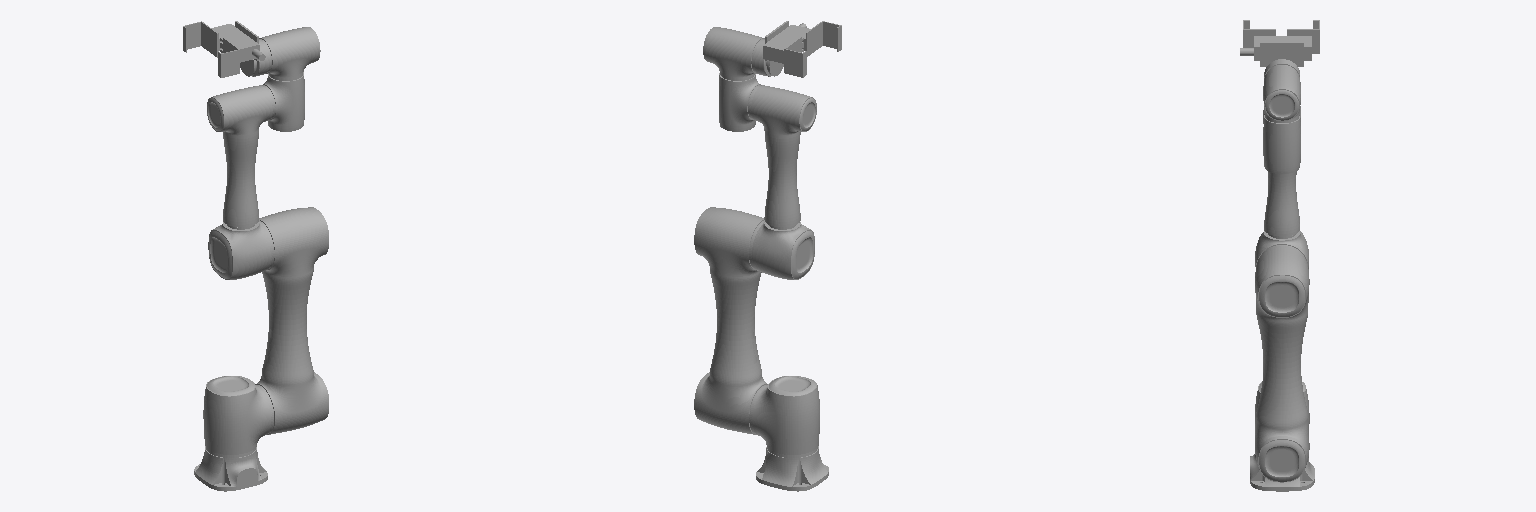
robot.urdf — with_craw:
<?xml version="1.0" ?>
<!-- =================================================================================== -->
<!-- |    This document was autogenerated by xacro from urdf\with_craw.xacro           | -->
<!-- |    EDITING THIS FILE BY HAND IS NOT RECOMMENDED                                 | -->
<!-- =================================================================================== -->
<robot xmlns:xacro="http://www.ros.org/wiki/xacro" name="with_craw">
  <material name="silver">
    <color rgba="0.700 0.700 0.700 1.000"/>
  </material>
  <transmission name="Revolute 2_tran">
    <type>transmission_interface/SimpleTransmission</type>
    <joint name="Revolute 2">
      <hardwareInterface>hardware_interface/EffortJointInterface</hardwareInterface>
    </joint>
    <actuator name="Revolute 2_actr">
      <hardwareInterface>hardware_interface/EffortJointInterface</hardwareInterface>
      <mechanicalReduction>1</mechanicalReduction>
    </actuator>
  </transmission>
  <transmission name="Revolute 3_tran">
    <type>transmission_interface/SimpleTransmission</type>
    <joint name="Revolute 3">
      <hardwareInterface>hardware_interface/EffortJointInterface</hardwareInterface>
    </joint>
    <actuator name="Revolute 3_actr">
      <hardwareInterface>hardware_interface/EffortJointInterface</hardwareInterface>
      <mechanicalReduction>1</mechanicalReduction>
    </actuator>
  </transmission>
  <transmission name="Revolute 8_tran">
    <type>transmission_interface/SimpleTransmission</type>
    <joint name="Revolute 8">
      <hardwareInterface>hardware_interface/EffortJointInterface</hardwareInterface>
    </joint>
    <actuator name="Revolute 8_actr">
      <hardwareInterface>hardware_interface/EffortJointInterface</hardwareInterface>
      <mechanicalReduction>1</mechanicalReduction>
    </actuator>
  </transmission>
  <transmission name="Revolute 11_tran">
    <type>transmission_interface/SimpleTransmission</type>
    <joint name="Revolute 11">
      <hardwareInterface>hardware_interface/EffortJointInterface</hardwareInterface>
    </joint>
    <actuator name="Revolute 11_actr">
      <hardwareInterface>hardware_interface/EffortJointInterface</hardwareInterface>
      <mechanicalReduction>1</mechanicalReduction>
    </actuator>
  </transmission>
  <transmission name="Revolute 12_tran">
    <type>transmission_interface/SimpleTransmission</type>
    <joint name="Revolute 12">
      <hardwareInterface>hardware_interface/EffortJointInterface</hardwareInterface>
    </joint>
    <actuator name="Revolute 12_actr">
      <hardwareInterface>hardware_interface/EffortJointInterface</hardwareInterface>
      <mechanicalReduction>1</mechanicalReduction>
    </actuator>
  </transmission>
  <transmission name="Revolute 13_tran">
    <type>transmission_interface/SimpleTransmission</type>
    <joint name="Revolute 13">
      <hardwareInterface>hardware_interface/EffortJointInterface</hardwareInterface>
    </joint>
    <actuator name="Revolute 13_actr">
      <hardwareInterface>hardware_interface/EffortJointInterface</hardwareInterface>
      <mechanicalReduction>1</mechanicalReduction>
    </actuator>
  </transmission>
  <transmission name="Slider 19_tran">
    <type>transmission_interface/SimpleTransmission</type>
    <joint name="Slider 19">
      <hardwareInterface>hardware_interface/EffortJointInterface</hardwareInterface>
    </joint>
    <actuator name="Slider 19_actr">
      <hardwareInterface>hardware_interface/EffortJointInterface</hardwareInterface>
      <mechanicalReduction>1</mechanicalReduction>
    </actuator>
  </transmission>
  <transmission name="Slider 20_tran">
    <type>transmission_interface/SimpleTransmission</type>
    <joint name="Slider 20">
      <hardwareInterface>hardware_interface/EffortJointInterface</hardwareInterface>
    </joint>
    <actuator name="Slider 20_actr">
      <hardwareInterface>hardware_interface/EffortJointInterface</hardwareInterface>
      <mechanicalReduction>1</mechanicalReduction>
    </actuator>
  </transmission>
  <gazebo>
    <plugin name="control" filename="libgazebo_ros_control.so"/>
  </gazebo>
  <gazebo reference="base_link">
    <material>Gazebo/Silver</material>
    <mu1>0.2</mu1>
    <mu2>0.2</mu2>
    <selfCollide>true</selfCollide>
    <gravity>true</gravity>
  </gazebo>
  <gazebo reference="joint251_1">
    <material>Gazebo/Silver</material>
    <mu1>0.2</mu1>
    <mu2>0.2</mu2>
    <selfCollide>true</selfCollide>
  </gazebo>
  <gazebo reference="joint251_2">
    <material>Gazebo/Silver</material>
    <mu1>0.2</mu1>
    <mu2>0.2</mu2>
    <selfCollide>true</selfCollide>
  </gazebo>
  <gazebo reference="larm_1">
    <material>Gazebo/Silver</material>
    <mu1>0.2</mu1>
    <mu2>0.2</mu2>
    <selfCollide>true</selfCollide>
  </gazebo>
  <gazebo reference="25joint_1">
    <material>Gazebo/Silver</material>
    <mu1>0.2</mu1>
    <mu2>0.2</mu2>
    <selfCollide>true</selfCollide>
  </gazebo>
  <gazebo reference="trans_1">
    <material>Gazebo/Silver</material>
    <mu1>0.2</mu1>
    <mu2>0.2</mu2>
    <selfCollide>true</selfCollide>
  </gazebo>
  <gazebo reference="uarm_1">
    <material>Gazebo/Silver</material>
    <mu1>0.2</mu1>
    <mu2>0.2</mu2>
    <selfCollide>true</selfCollide>
  </gazebo>
  <gazebo reference="joint14_1">
    <material>Gazebo/Silver</material>
    <mu1>0.2</mu1>
    <mu2>0.2</mu2>
    <selfCollide>true</selfCollide>
  </gazebo>
  <gazebo reference="joint142_1">
    <material>Gazebo/Silver</material>
    <mu1>0.2</mu1>
    <mu2>0.2</mu2>
    <selfCollide>true</selfCollide>
  </gazebo>
  <gazebo reference="joint143_1">
    <material>Gazebo/Silver</material>
    <mu1>0.2</mu1>
    <mu2>0.2</mu2>
    <selfCollide>true</selfCollide>
  </gazebo>
  <gazebo reference="flange_1">
    <material>Gazebo/Silver</material>
    <mu1>0.2</mu1>
    <mu2>0.2</mu2>
    <selfCollide>true</selfCollide>
  </gazebo>
  <gazebo reference="board_1">
    <material>Gazebo/Silver</material>
    <mu1>0.2</mu1>
    <mu2>0.2</mu2>
    <selfCollide>true</selfCollide>
  </gazebo>
  <gazebo reference="craw_1">
    <material>Gazebo/Silver</material>
    <mu1>0.2</mu1>
    <mu2>0.2</mu2>
    <selfCollide>true</selfCollide>
  </gazebo>
  <gazebo reference="cralwer_deap_1">
    <material>Gazebo/Silver</material>
    <mu1>0.2</mu1>
    <mu2>0.2</mu2>
    <selfCollide>true</selfCollide>
  </gazebo>
  <gazebo reference="crawler_deap12_1">
    <material>Gazebo/Silver</material>
    <mu1>0.2</mu1>
    <mu2>0.2</mu2>
    <selfCollide>true</selfCollide>
  </gazebo>
  <link name="base_link">
    <inertial>
      <origin xyz="9.954103263505598e-09 -0.0015502821747043515 0.1223159317118989" rpy="0 0 0"/>
      <mass value="7.80323249079454"/>
      <inertia ixx="0.012989" iyy="0.01227" izz="0.018229" ixy="0.0" iyz="1.6e-05" ixz="-0.0"/>
    </inertial>
    <visual>
      <origin xyz="0 0 0" rpy="0 0 0"/>
      <geometry>
        <mesh filename="package://robot_description/meshes/base_link.stl" scale="0.001 0.001 0.001"/>
      </geometry>
      <material name="silver"/>
    </visual>
    <collision>
      <origin xyz="0 0 0" rpy="0 0 0"/>
      <geometry>
        <mesh filename="package://robot_description/meshes/base_link.stl" scale="0.001 0.001 0.001"/>
      </geometry>
    </collision>
  </link>
  <link name="joint251_1">
    <inertial>
      <origin xyz="0.007407255316287612 9.443880300205346e-09 0.07775349829951264" rpy="0 0 0"/>
      <mass value="15.540708623156787"/>
      <inertia ixx="0.041918" iyy="0.045424" izz="0.033427" ixy="-0.0" iyz="0.0" ixz="0.000116"/>
    </inertial>
    <visual>
      <origin xyz="0.0 -0.0 -0.16" rpy="0 0 0"/>
      <geometry>
        <mesh filename="package://robot_description/meshes/joint251_1.stl" scale="0.001 0.001 0.001"/>
      </geometry>
      <material name="silver"/>
    </visual>
    <collision>
      <origin xyz="0.0 -0.0 -0.16" rpy="0 0 0"/>
      <geometry>
        <mesh filename="package://robot_description/meshes/joint251_1.stl" scale="0.001 0.001 0.001"/>
      </geometry>
    </collision>
  </link>
  <link name="joint251_2">
    <inertial>
      <origin xyz="0.07775349829951257 -9.443880299997178e-09 0.0074073567206075774" rpy="0 0 0"/>
      <mass value="15.540708623156787"/>
      <inertia ixx="0.033427" iyy="0.045424" izz="0.041918" ixy="-0.0" iyz="0.0" ixz="0.000116"/>
    </inertial>
    <visual>
      <origin xyz="-0.071 -0.0 -0.236501" rpy="0 0 0"/>
      <geometry>
        <mesh filename="package://robot_description/meshes/joint251_2.stl" scale="0.001 0.001 0.001"/>
      </geometry>
      <material name="silver"/>
    </visual>
    <collision>
      <origin xyz="-0.071 -0.0 -0.236501" rpy="0 0 0"/>
      <geometry>
        <mesh filename="package://robot_description/meshes/joint251_2.stl" scale="0.001 0.001 0.001"/>
      </geometry>
    </collision>
  </link>
  <link name="larm_1">
    <inertial>
      <origin xyz="-0.147501 0.0 -0.307501" rpy="0 0 0"/>
      <mass value="0.0"/>
      <inertia ixx="0.0" iyy="0.0" izz="0.0" ixy="0.0" iyz="0.0" ixz="0.0"/>
    </inertial>
    <visual>
      <origin xyz="-0.147501 0.0 -0.307501" rpy="0 0 0"/>
      <geometry>
        <mesh filename="package://robot_description/meshes/larm_1.stl" scale="0.001 0.001 0.001"/>
      </geometry>
      <material name="silver"/>
    </visual>
    <collision>
      <origin xyz="-0.147501 0.0 -0.307501" rpy="0 0 0"/>
      <geometry>
        <mesh filename="package://robot_description/meshes/larm_1.stl" scale="0.001 0.001 0.001"/>
      </geometry>
    </collision>
  </link>
  <link name="25joint_1">
    <inertial>
      <origin xyz="0.0012524982995125444 9.443880291323559e-09 0.06359284608803206" rpy="0 0 0"/>
      <mass value="15.540708623156787"/>
      <inertia ixx="0.033427" iyy="0.045424" izz="0.041918" ixy="0.0" iyz="0.0" ixz="-0.000116"/>
    </inertial>
    <visual>
      <origin xyz="-0.147501 0.0 -0.574501" rpy="0 0 0"/>
      <geometry>
        <mesh filename="package://robot_description/meshes/25joint_1.stl" scale="0.001 0.001 0.001"/>
      </geometry>
      <material name="silver"/>
    </visual>
    <collision>
      <origin xyz="-0.147501 0.0 -0.574501" rpy="0 0 0"/>
      <geometry>
        <mesh filename="package://robot_description/meshes/25joint_1.stl" scale="0.001 0.001 0.001"/>
      </geometry>
    </collision>
  </link>
  <link name="trans_1">
    <inertial>
      <origin xyz="-0.04834807020879976 -2.133823642225252e-09 0.0023734187016306585" rpy="0 0 0"/>
      <mass value="9.76158423031047"/>
      <inertia ixx="0.019423" iyy="0.01826" izz="0.017278" ixy="0.0" iyz="-0.0" ixz="-8.1e-05"/>
    </inertial>
    <visual>
      <origin xyz="-0.071 0.0 -0.645501" rpy="0 0 0"/>
      <geometry>
        <mesh filename="package://robot_description/meshes/trans_1.stl" scale="0.001 0.001 0.001"/>
      </geometry>
      <material name="silver"/>
    </visual>
    <collision>
      <origin xyz="-0.071 0.0 -0.645501" rpy="0 0 0"/>
      <geometry>
        <mesh filename="package://robot_description/meshes/trans_1.stl" scale="0.001 0.001 0.001"/>
      </geometry>
    </collision>
  </link>
  <link name="uarm_1">
    <inertial>
      <origin xyz="-0.026 0.0 -0.710601" rpy="0 0 0"/>
      <mass value="0.0"/>
      <inertia ixx="0.0" iyy="0.0" izz="0.0" ixy="0.0" iyz="0.0" ixz="0.0"/>
    </inertial>
    <visual>
      <origin xyz="-0.026 -0.0 -0.710601" rpy="0 0 0"/>
      <geometry>
        <mesh filename="package://robot_description/meshes/uarm_1.stl" scale="0.001 0.001 0.001"/>
      </geometry>
      <material name="silver"/>
    </visual>
    <collision>
      <origin xyz="-0.026 -0.0 -0.710601" rpy="0 0 0"/>
      <geometry>
        <mesh filename="package://robot_description/meshes/uarm_1.stl" scale="0.001 0.001 0.001"/>
      </geometry>
    </collision>
  </link>
  <link name="joint14_1">
    <inertial>
      <origin xyz="-0.0013163614832422087 6.989364011106081e-09 0.044489875500995035" rpy="0 0 0"/>
      <mass value="6.462489586316137"/>
      <inertia ixx="0.006667" iyy="0.012155" izz="0.011497" ixy="-0.0" iyz="0.0" ixz="4.7e-05"/>
    </inertial>
    <visual>
      <origin xyz="-0.026 -0.0 -0.947601" rpy="0 0 0"/>
      <geometry>
        <mesh filename="package://robot_description/meshes/joint14_1.stl" scale="0.001 0.001 0.001"/>
      </geometry>
      <material name="silver"/>
    </visual>
    <collision>
      <origin xyz="-0.026 -0.0 -0.947601" rpy="0 0 0"/>
      <geometry>
        <mesh filename="package://robot_description/meshes/joint14_1.stl" scale="0.001 0.001 0.001"/>
      </geometry>
    </collision>
  </link>
  <link name="joint142_1">
    <inertial>
      <origin xyz="0.04448977409667382 -6.989367042213665e-09 -0.0013162600789008438" rpy="0 0 0"/>
      <mass value="6.462489586316137"/>
      <inertia ixx="0.011497" iyy="0.012155" izz="0.006667" ixy="-0.0" iyz="0.0" ixz="4.7e-05"/>
    </inertial>
    <visual>
      <origin xyz="-0.094 0.0 -0.996601" rpy="0 0 0"/>
      <geometry>
        <mesh filename="package://robot_description/meshes/joint142_1.stl" scale="0.001 0.001 0.001"/>
      </geometry>
      <material name="silver"/>
    </visual>
    <collision>
      <origin xyz="-0.094 0.0 -0.996601" rpy="0 0 0"/>
      <geometry>
        <mesh filename="package://robot_description/meshes/joint142_1.stl" scale="0.001 0.001 0.001"/>
      </geometry>
    </collision>
  </link>
  <link name="joint143_1">
    <inertial>
      <origin xyz="0.001316361483200329 -6.989370806564921e-09 0.04448987550101702" rpy="0 0 0"/>
      <mass value="6.4624895863161385"/>
      <inertia ixx="0.006667" iyy="0.012155" izz="0.011497" ixy="-0.0" iyz="-0.0" ixz="-4.7e-05"/>
    </inertial>
    <visual>
      <origin xyz="-0.143 0.0 -1.064601" rpy="0 0 0"/>
      <geometry>
        <mesh filename="package://robot_description/meshes/joint143_1.stl" scale="0.001 0.001 0.001"/>
      </geometry>
      <material name="silver"/>
    </visual>
    <collision>
      <origin xyz="-0.143 0.0 -1.064601" rpy="0 0 0"/>
      <geometry>
        <mesh filename="package://robot_description/meshes/joint143_1.stl" scale="0.001 0.001 0.001"/>
      </geometry>
    </collision>
  </link>
  <link name="flange_1">
    <inertial>
      <origin xyz="-0.012106817573210152 -4.741664094557042e-15 -2.655884810787157e-05" rpy="0 0 0"/>
      <mass value="1.24878893227101"/>
      <inertia ixx="0.001091" iyy="0.000662" izz="0.000662" ixy="0.0" iyz="-0.0" ixz="-1e-06"/>
    </inertial>
    <visual>
      <origin xyz="-0.075 0.0 -1.113601" rpy="0 0 0"/>
      <geometry>
        <mesh filename="package://robot_description/meshes/flange_1.stl" scale="0.001 0.001 0.001"/>
      </geometry>
      <material name="silver"/>
    </visual>
    <collision>
      <origin xyz="-0.075 0.0 -1.113601" rpy="0 0 0"/>
      <geometry>
        <mesh filename="package://robot_description/meshes/flange_1.stl" scale="0.001 0.001 0.001"/>
      </geometry>
    </collision>
  </link>
  <link name="board_1">
    <inertial>
      <origin xyz="-0.002504966782930447 -6.7501559897209515e-15 0.027553796832819" rpy="0 0 0"/>
      <mass value="0.37239652270283546"/>
      <inertia ixx="0.000605" iyy="0.000357" izz="0.00025" ixy="-0.0" iyz="0.0" ixz="0.0"/>
    </inertial>
    <visual>
      <origin xyz="-0.0435 0.0 -1.113601" rpy="0 0 0"/>
      <geometry>
        <mesh filename="package://robot_description/meshes/board_1.stl" scale="0.001 0.001 0.001"/>
      </geometry>
      <material name="silver"/>
    </visual>
    <collision>
      <origin xyz="-0.0435 0.0 -1.113601" rpy="0 0 0"/>
      <geometry>
        <mesh filename="package://robot_description/meshes/board_1.stl" scale="0.001 0.001 0.001"/>
      </geometry>
    </collision>
  </link>
  <link name="craw_1">
    <inertial>
      <origin xyz="-0.028002904899663093 -0.03408764646558082 -0.011999898595712377" rpy="0 0 0"/>
      <mass value="2.0529823308563824"/>
      <inertia ixx="0.003426" iyy="0.000782" izz="0.003843" ixy="8.9e-05" iyz="-0.0" ixz="-0.0"/>
    </inertial>
    <visual>
      <origin xyz="-0.0375 -0.0345 -1.173101" rpy="0 0 0"/>
      <geometry>
        <mesh filename="package://robot_description/meshes/craw_1.stl" scale="0.001 0.001 0.001"/>
      </geometry>
      <material name="silver"/>
    </visual>
    <collision>
      <origin xyz="-0.0375 -0.0345 -1.173101" rpy="0 0 0"/>
      <geometry>
        <mesh filename="package://robot_description/meshes/craw_1.stl" scale="0.001 0.001 0.001"/>
      </geometry>
    </collision>
  </link>
  <link name="cralwer_deap_1">
    <inertial>
      <origin xyz="-0.021162686578159576 0.03040895522968348 -0.008749898604404116" rpy="0 0 0"/>
      <mass value="0.23667750006845437"/>
      <inertia ixx="0.000223" iyy="0.000135" izz="0.000236" ixy="7.1e-05" iyz="0.0" ixz="-0.0"/>
    </inertial>
    <visual>
      <origin xyz="0.0165 -0.0255 -1.169851" rpy="0 0 0"/>
      <geometry>
        <mesh filename="package://robot_description/meshes/cralwer_deap_1.stl" scale="0.001 0.001 0.001"/>
      </geometry>
      <material name="silver"/>
    </visual>
    <collision>
      <origin xyz="0.0165 -0.0255 -1.169851" rpy="0 0 0"/>
      <geometry>
        <mesh filename="package://robot_description/meshes/cralwer_deap_1.stl" scale="0.001 0.001 0.001"/>
      </geometry>
    </collision>
  </link>
  <link name="crawler_deap12_1">
    <inertial>
      <origin xyz="-0.021162686578159715 -0.03040895522969733 -0.008749898587053773" rpy="0 0 0"/>
      <mass value="0.236677500068455"/>
      <inertia ixx="0.000223" iyy="0.000135" izz="0.000236" ixy="-7.1e-05" iyz="0.0" ixz="0.0"/>
    </inertial>
    <visual>
      <origin xyz="0.0165 0.0285 -1.169851" rpy="0 0 0"/>
      <geometry>
        <mesh filename="package://robot_description/meshes/crawler_deap12_1.stl" scale="0.001 0.001 0.001"/>
      </geometry>
      <material name="silver"/>
    </visual>
    <collision>
      <origin xyz="0.0165 0.0285 -1.169851" rpy="0 0 0"/>
      <geometry>
        <mesh filename="package://robot_description/meshes/crawler_deap12_1.stl" scale="0.001 0.001 0.001"/>
      </geometry>
    </collision>
  </link>
  <link name="virtual_tip_link">
    <inertial>
      <mass value="0.00001"/>
      <origin xyz="0 0 0"/>
      <inertia ixx="1e-6" iyy="1e-6" izz="1e-6" ixy="0" ixz="0" iyz="0"/>
    </inertial>
  </link>
  <joint name="Revolute 2" type="continuous">
    <origin xyz="0.0 0.0 0.16" rpy="0 0 0"/>
    <parent link="base_link"/>
    <child link="joint251_1"/>
    <axis xyz="0.0 0.0 1.0"/>
  </joint>
  <joint name="Revolute 3" type="revolute">
    <origin xyz="0.071 0.0 0.076501" rpy="0 0 0"/>
    <parent link="joint251_1"/>
    <child link="joint251_2"/>
    <axis xyz="1.0 0.0 0.0"/>
    <limit lower="-0.5236" upper="0.5236" />
  </joint>
  <joint name="Rigid 4" type="fixed">
    <origin xyz="0.076501 -0.0 0.071" rpy="0 0 0"/>
    <parent link="joint251_2"/>
    <child link="larm_1"/>
  </joint>
  <joint name="Rigid 6" type="fixed">
    <origin xyz="0.0 0.0 0.267" rpy="0 0 0"/>
    <parent link="larm_1"/>
    <child link="25joint_1"/>
  </joint>
  <joint name="Revolute 8" type="continuous">
    <origin xyz="-0.076501 0.0 0.071" rpy="0 0 0"/>
    <parent link="25joint_1"/>
    <child link="trans_1"/>
    <axis xyz="-1.0 0.0 0.0"/>
  </joint>
  <joint name="Rigid 9" type="fixed">
    <origin xyz="-0.045 0.0 0.0651" rpy="0 0 0"/>
    <parent link="trans_1"/>
    <child link="uarm_1"/>
  </joint>
  <joint name="Rigid 10" type="fixed">
    <origin xyz="0.0 0.0 0.237" rpy="0 0 0"/>
    <parent link="uarm_1"/>
    <child link="joint14_1"/>
  </joint>
  <joint name="Revolute 11" type="continuous">
    <origin xyz="0.068 -0.0 0.049" rpy="0 0 0"/>
    <parent link="joint14_1"/>
    <child link="joint142_1"/>
    <axis xyz="1.0 -0.0 0.0"/>
  </joint>
  <joint name="Revolute 12" type="continuous">
    <origin xyz="0.049 0.0 0.068" rpy="0 0 0"/>
    <parent link="joint142_1"/>
    <child link="joint143_1"/>
    <axis xyz="-0.0 -0.0 1.0"/>
  </joint>
  <joint name="Revolute 13" type="continuous">
    <origin xyz="-0.068 0.0 0.049" rpy="0 0 0"/>
    <parent link="joint143_1"/>
    <child link="flange_1"/>
    <axis xyz="-1.0 0.0 -0.0"/>
  </joint>
  <joint name="Rigid 16" type="fixed">
    <origin xyz="-0.0315 0.0 0.0" rpy="0 0 0"/>
    <parent link="flange_1"/>
    <child link="board_1"/>
  </joint>
  <joint name="Rigid 17" type="fixed">
    <origin xyz="-0.006 0.0345 0.0595" rpy="0 0 0"/>
    <parent link="board_1"/>
    <child link="craw_1"/>
  </joint>
  <joint name="Slider 19" type="prismatic">
    <origin xyz="-0.054 -0.009 -0.00325" rpy="0 0 0"/>
    <parent link="craw_1"/>
    <child link="cralwer_deap_1"/>
    <axis xyz="-0.0 1.0 0.0"/>
    <limit upper="0.01" lower="-0.01" effort="100" velocity="100"/>
  </joint>
  <joint name="Slider 20" type="prismatic">
    <origin xyz="-0.054 -0.063 -0.00325" rpy="0 0 0"/>
    <parent link="craw_1"/>
    <child link="crawler_deap12_1"/>
    <axis xyz="-0.0 1.0 0.0"/>
    <limit upper="0.01" lower="-0.01" effort="100" velocity="100"/>
  </joint>
  <joint name="virtual_tip_joint" type="revolute">
    <parent link="craw_1"/> <!-- 改成共用父連結 -->
    <child link="virtual_tip_link"/>
    <origin xyz=" -0.1 -0.036 -0.00325" rpy="0 0 0"/> <!-- 位置依你要掛在中間點的 offset 調整 -->
    <axis xyz="0 0 1"/>
    <limit lower="0" upper="0" effort="0" velocity="0"/>
  </joint>
</robot>

--- Render facts (derived) ---
Views: 3 orthographic renders of the robot side by side, from view 1: azimuth 30°, elevation 25°; view 2: azimuth 150°, elevation 25°; view 3: azimuth 270°, elevation 25°.
Robot: with_craw — 16 links, 15 joints (2 revolute, 5 continuous, 2 prismatic, 6 fixed); root link base_link; default pose: all joints at 0.
Visible links, largest first — view 1: larm_1, joint251_1, 25joint_1, trans_1, uarm_1, joint251_2, joint14_1, base_link, joint143_1, joint142_1, cralwer_deap_1, craw_1 (+1 smaller); view 2: larm_1, joint251_1, 25joint_1, trans_1, uarm_1, joint251_2, joint14_1, base_link, joint143_1, joint142_1, crawler_deap12_1, craw_1 (+1 smaller); view 3: larm_1, 25joint_1, joint251_2, uarm_1, joint143_1, joint142_1, base_link, board_1, trans_1, craw_1.
Link boxes in pixels (left/top/right/bottom): larm_1: left=262, top=269, right=313, bottom=385; joint251_1: left=203, top=376, right=273, bottom=454; 25joint_1: left=259, top=207, right=328, bottom=277; trans_1: left=208, top=220, right=274, bottom=279; uarm_1: left=223, top=130, right=258, bottom=229; joint251_2: left=255, top=372, right=328, bottom=434; joint14_1: left=207, top=85, right=272, bottom=135; base_link: left=194, top=446, right=267, bottom=491; joint143_1: left=259, top=27, right=320, bottom=80; joint142_1: left=262, top=72, right=304, bottom=131; cralwer_deap_1: left=183, top=21, right=221, bottom=57; craw_1: left=212, top=24, right=265, bottom=62; larm_1: left=710, top=270, right=761, bottom=385; joint251_1: left=749, top=376, right=819, bottom=454; 25joint_1: left=694, top=207, right=763, bottom=277; trans_1: left=749, top=220, right=814, bottom=279; uarm_1: left=764, top=129, right=800, bottom=229; joint251_2: left=694, top=372, right=767, bottom=434; joint14_1: left=751, top=85, right=816, bottom=135; base_link: left=756, top=446, right=828, bottom=491; joint143_1: left=703, top=27, right=764, bottom=80; joint142_1: left=719, top=73, right=761, bottom=131; crawler_deap12_1: left=802, top=21, right=841, bottom=56; craw_1: left=763, top=23, right=810, bottom=63; larm_1: left=1256, top=313, right=1307, bottom=428; 25joint_1: left=1255, top=246, right=1309, bottom=321; joint251_2: left=1255, top=420, right=1309, bottom=482; uarm_1: left=1264, top=171, right=1299, bottom=238; joint143_1: left=1263, top=65, right=1300, bottom=122; joint142_1: left=1263, top=115, right=1300, bottom=173; base_link: left=1250, top=454, right=1314, bottom=491; board_1: left=1260, top=42, right=1303, bottom=66; trans_1: left=1255, top=231, right=1308, bottom=268; craw_1: left=1240, top=36, right=1311, bottom=60.
Size in the robot's own frame: 0.3055 by 0.181 by 1.1 metres.
15 mesh visuals loaded from 15 distinct referenced files (15 binary STL).
